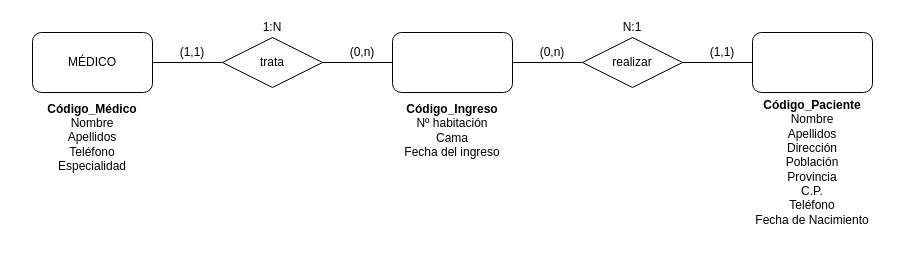
Image size: 914x274. Some labels were removed from this diagram. Here are the shapes that lost their labels. From the top down, the centre of each, then its label:
At (452,62): "INGRESO".
At (812,62): "PACIENTE".
